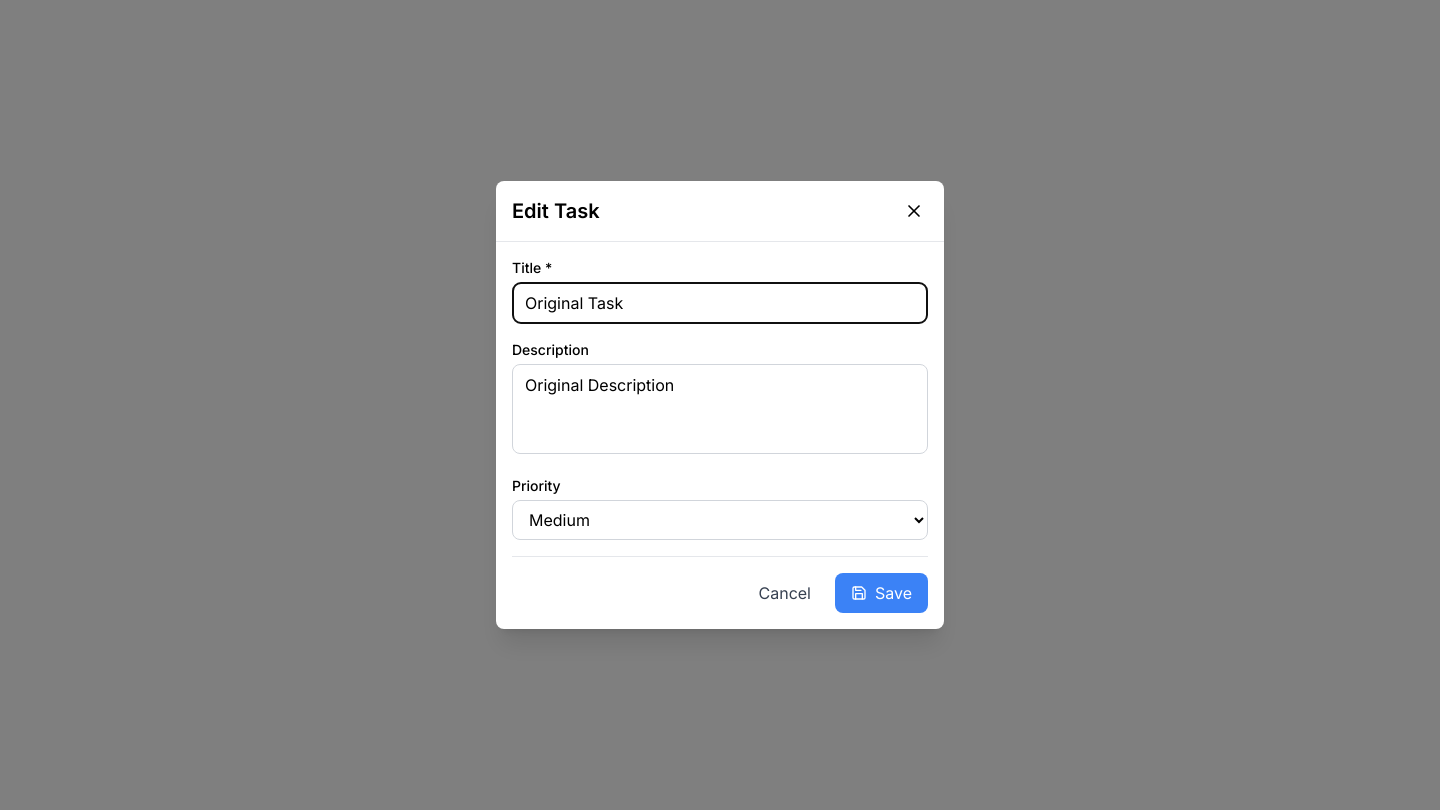
Test: TaskEditModal › disables fields and buttons during saving
Click the button "Save". click: (882,593)
box: [835, 573, 928, 613]
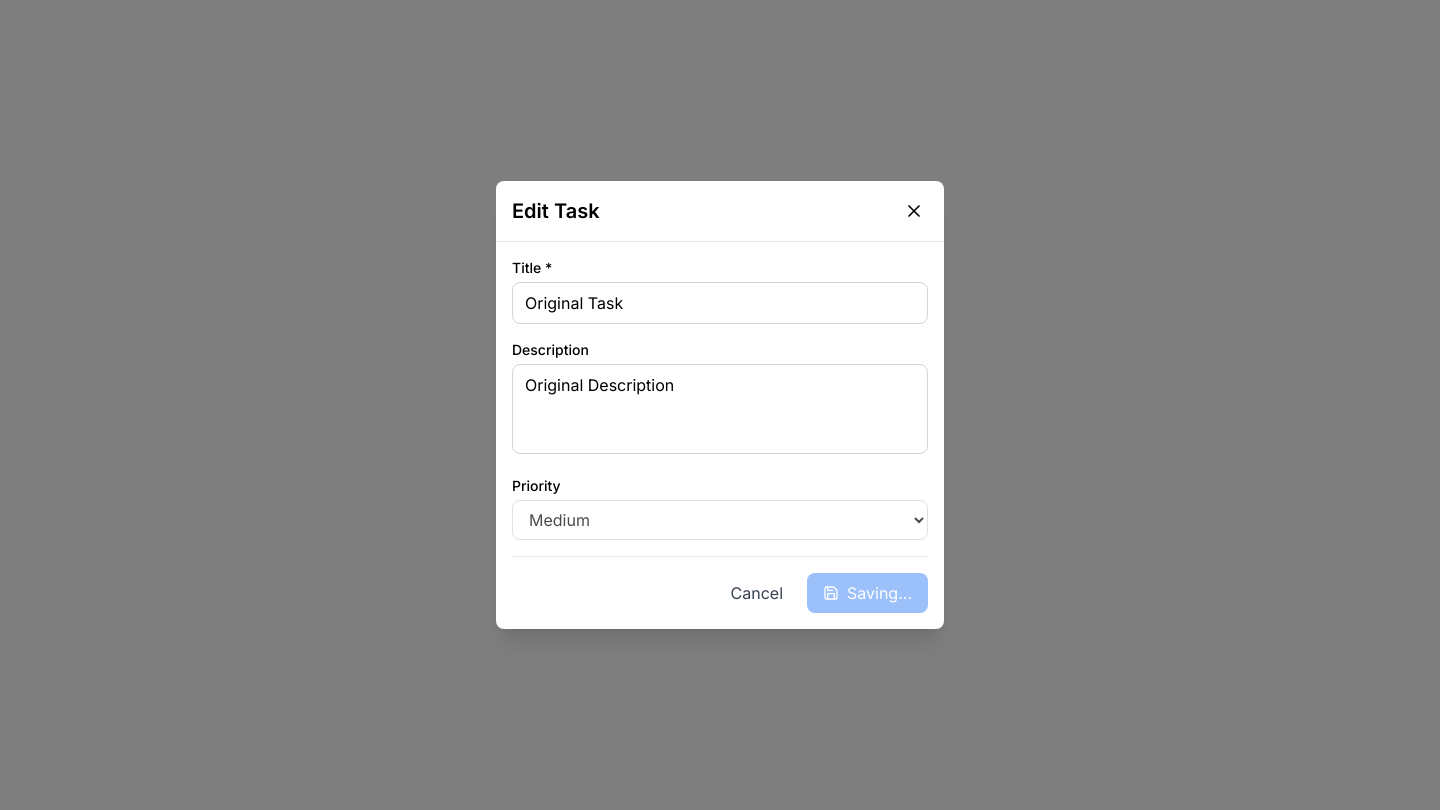
Check: the button "Save" reads "Saving...", box [807, 573, 928, 613]
Check: the button "Save" is disabled, box [807, 573, 928, 613]
Check: the field showing "Original Task" is disabled, box [512, 282, 928, 324]
